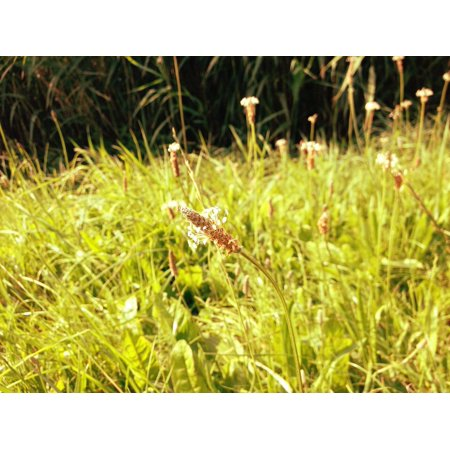buckhorn plantain: (107, 101, 383, 374)
